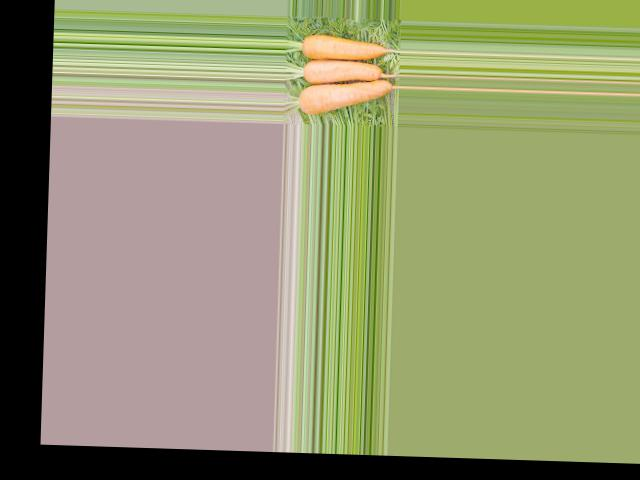carrot: (297, 77, 392, 117)
